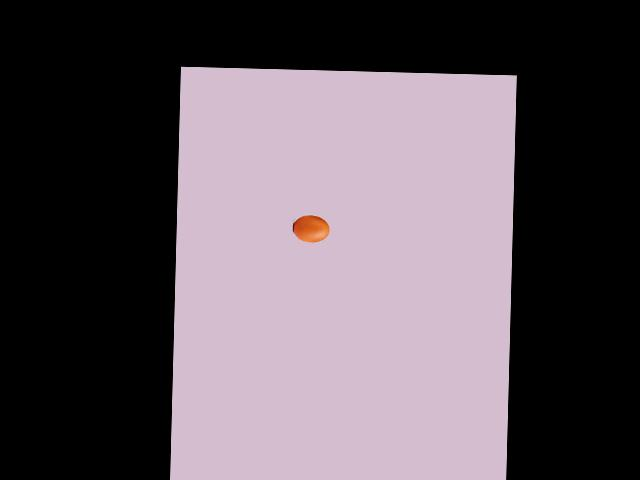egg: (292, 214, 330, 242)
